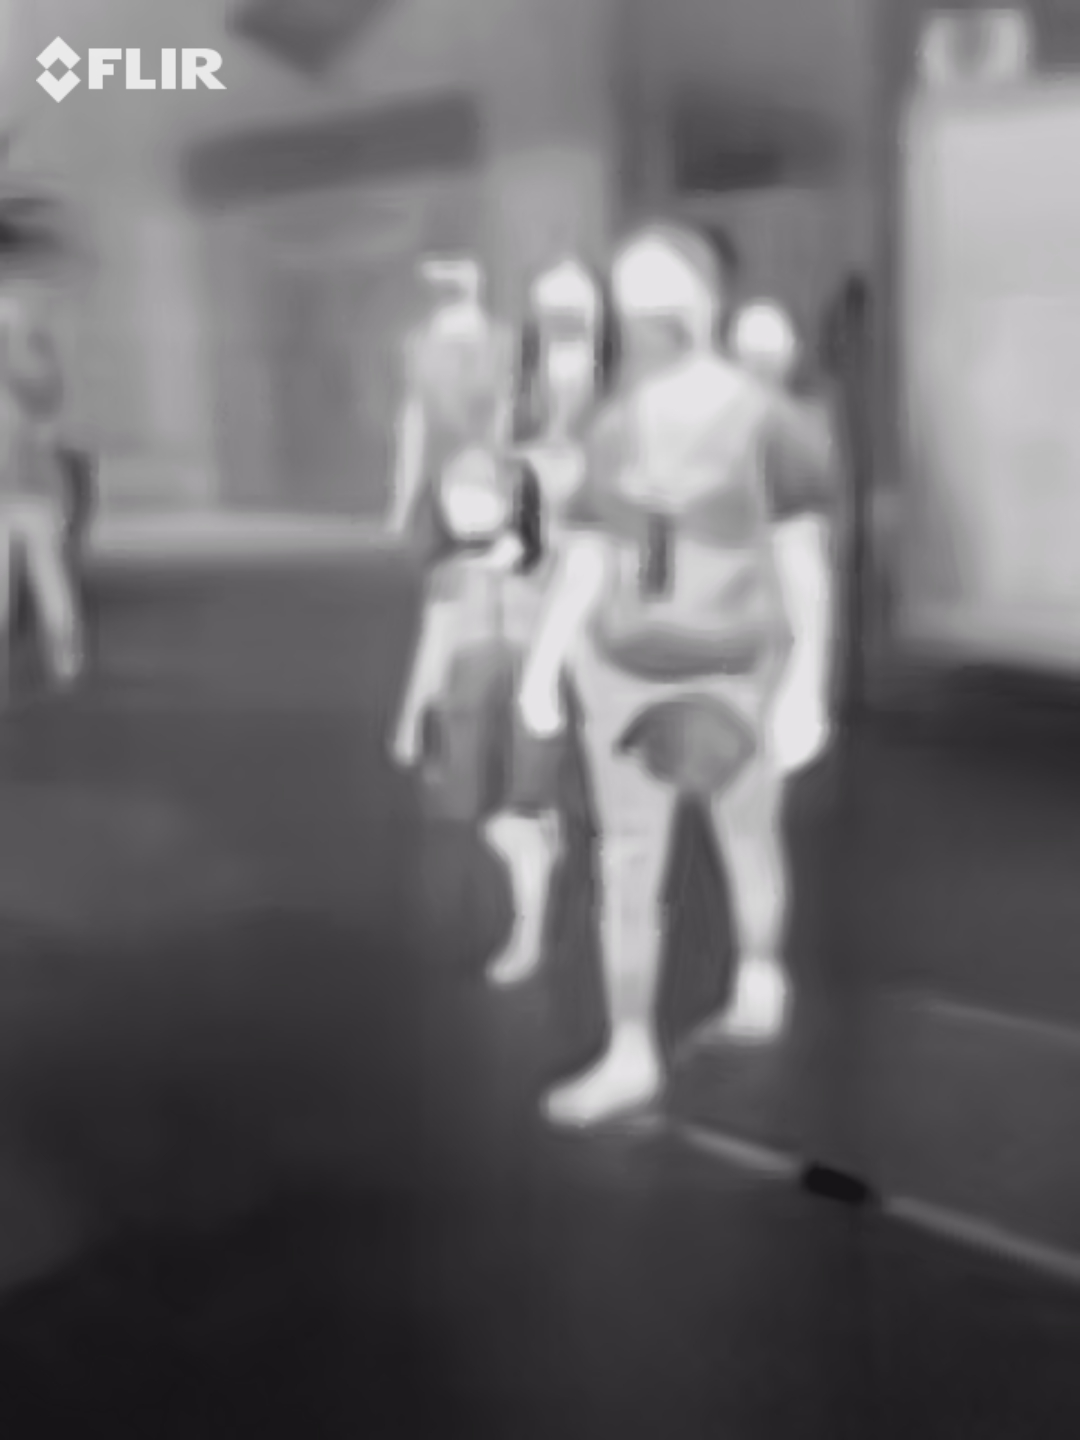head: (610, 218, 721, 389), (430, 450, 524, 559)
